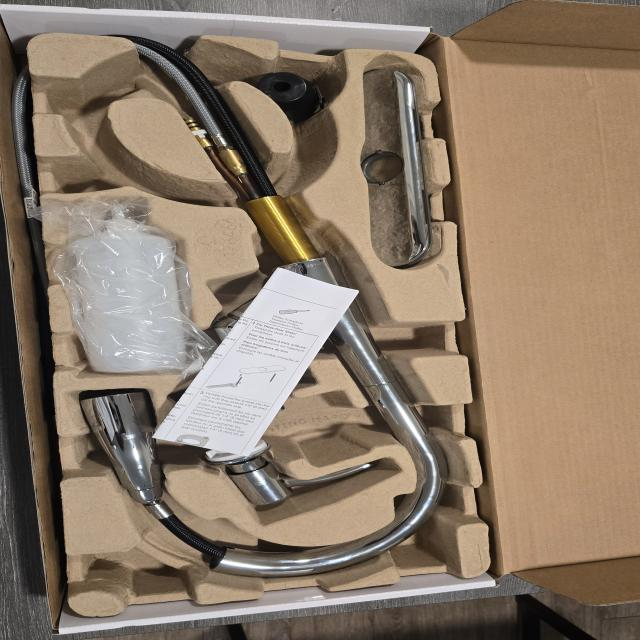1o: (79, 33, 449, 577)
2o: (171, 387, 375, 506)
3: (67, 203, 181, 373)
4: (361, 68, 432, 268)
5: (257, 72, 323, 122)
6m: (50, 59, 142, 132)
7m: (50, 139, 200, 202)
8: (151, 267, 364, 457)
